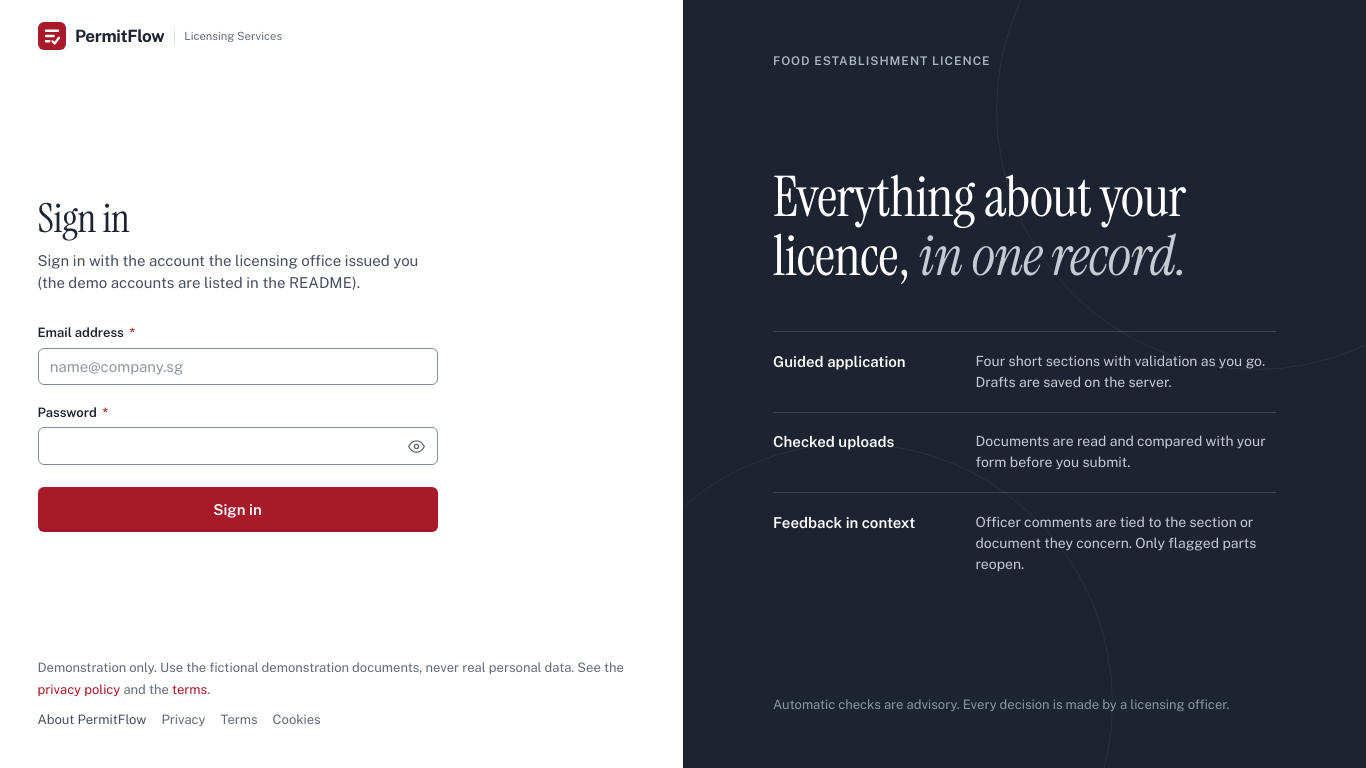
Test: LoginPage › lets the person cancel a take-over and keeps the form
Type "o@x.sg" into the field labelled "Email address *". click: (238, 366)
box: [38,348,438,385]
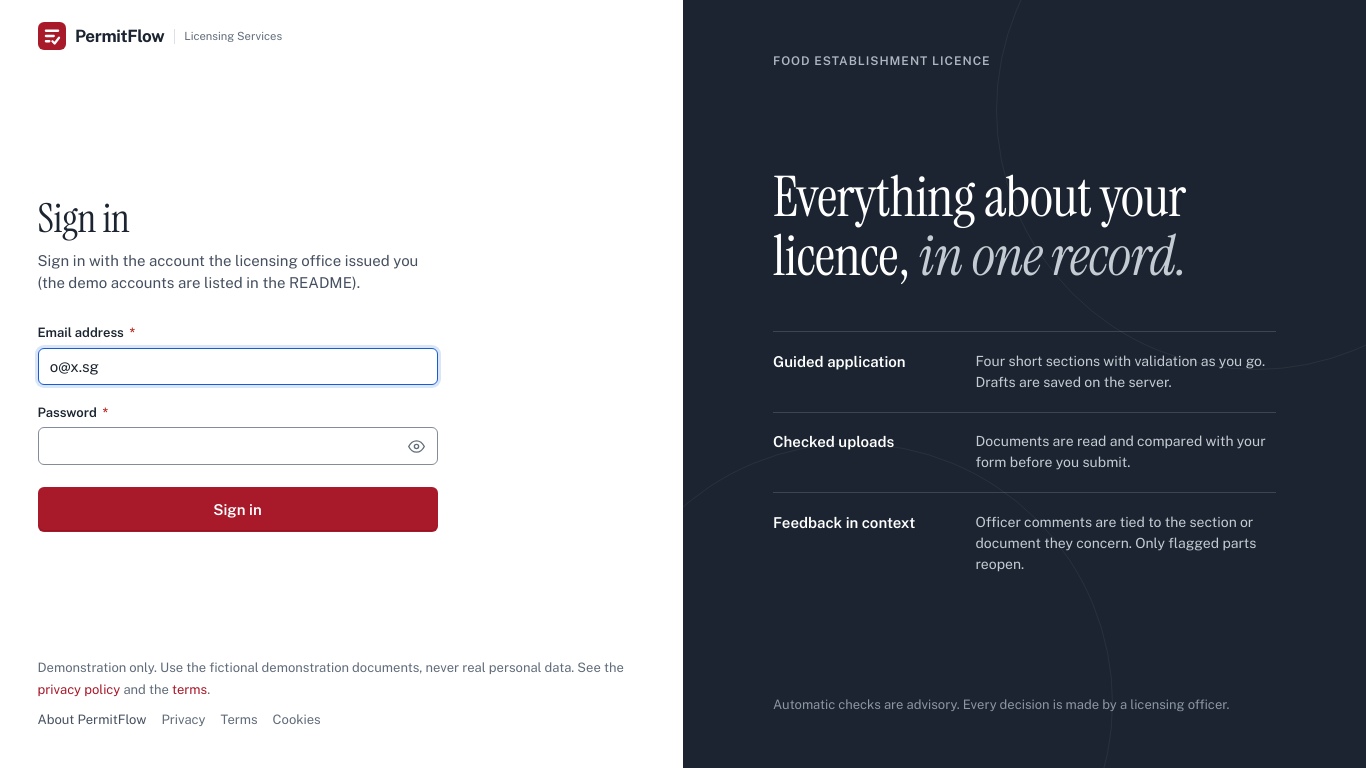
Type "pw" into the password field labelled "Password *". click: (238, 446)
box: [38,427,438,465]
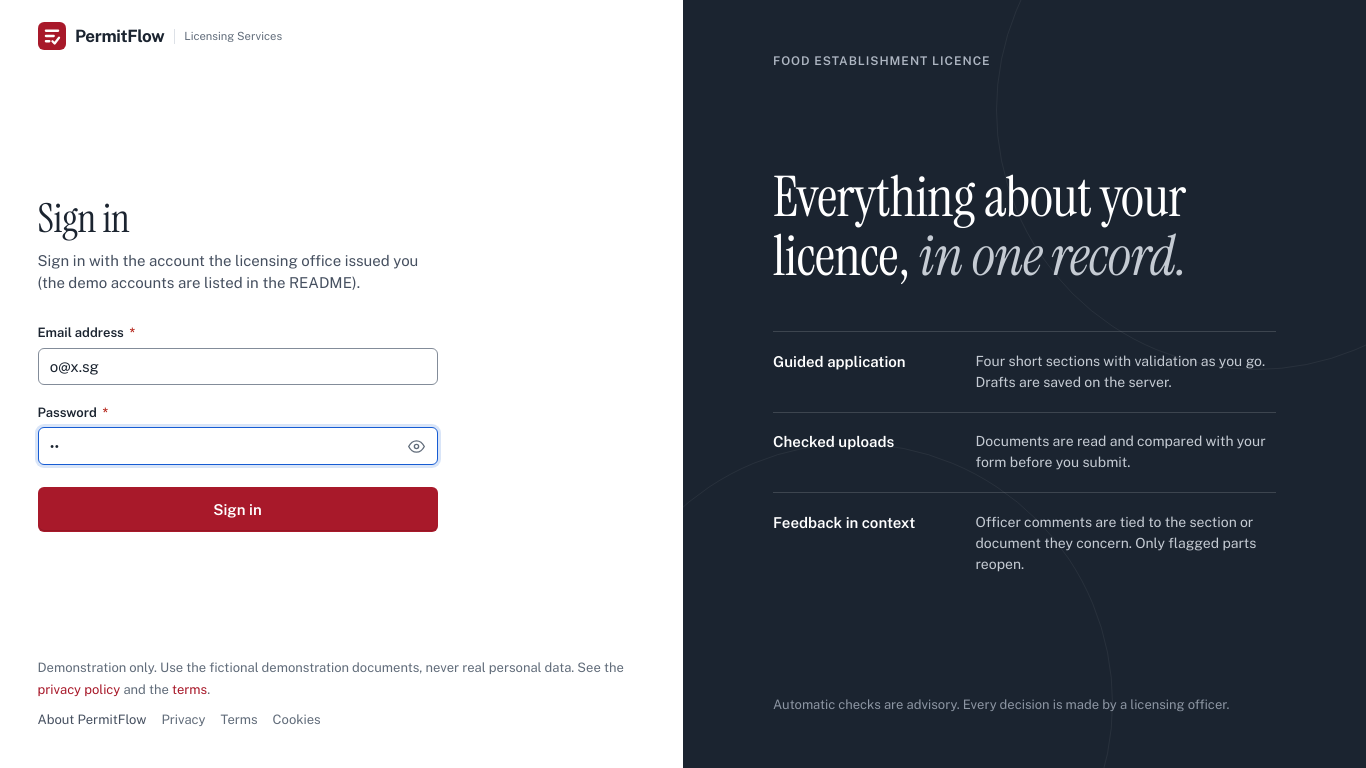
Click the button "Sign in". click: (238, 510)
box: [38,487,438,532]
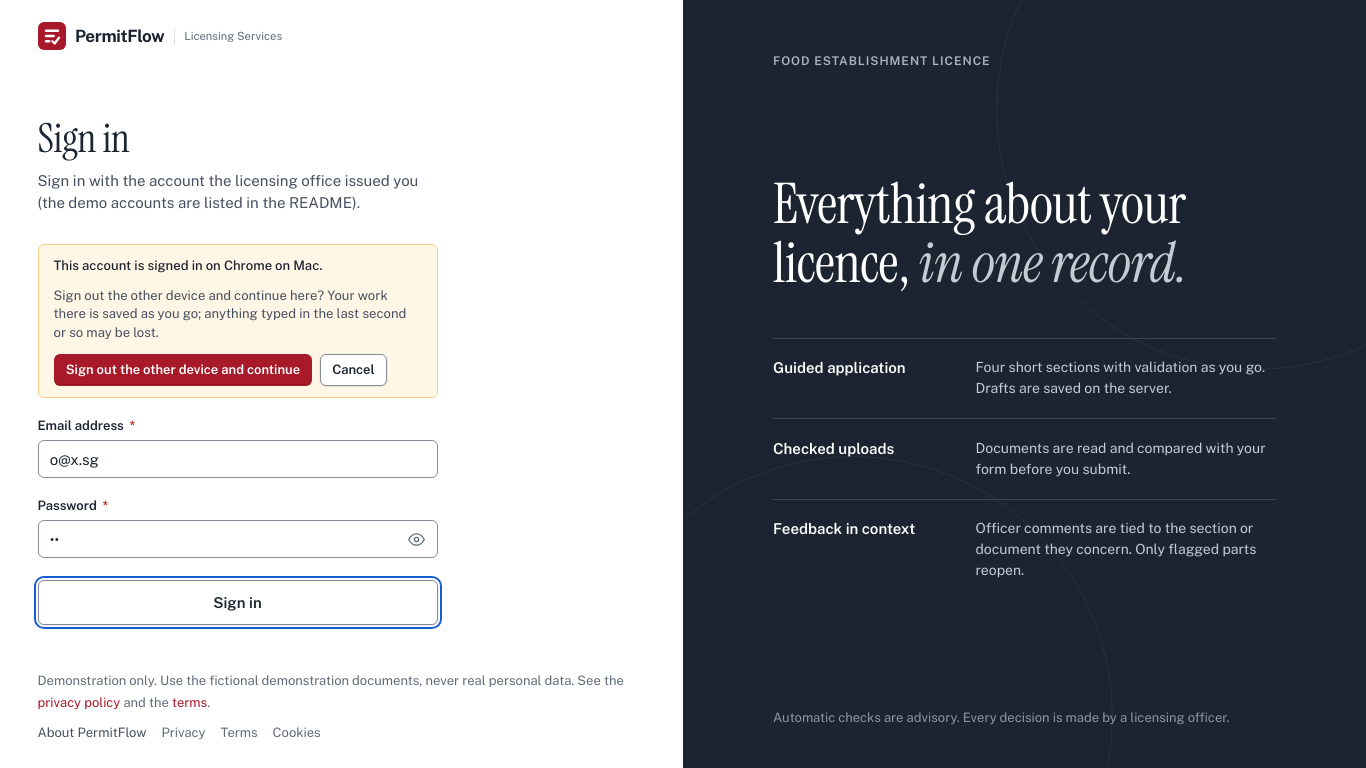
Expected: the text "This account is signed in on Chrome on Mac." is shown, [54,258,322,272]
Click the button "Cancel". click: (353, 370)
box: [320,354,387,386]
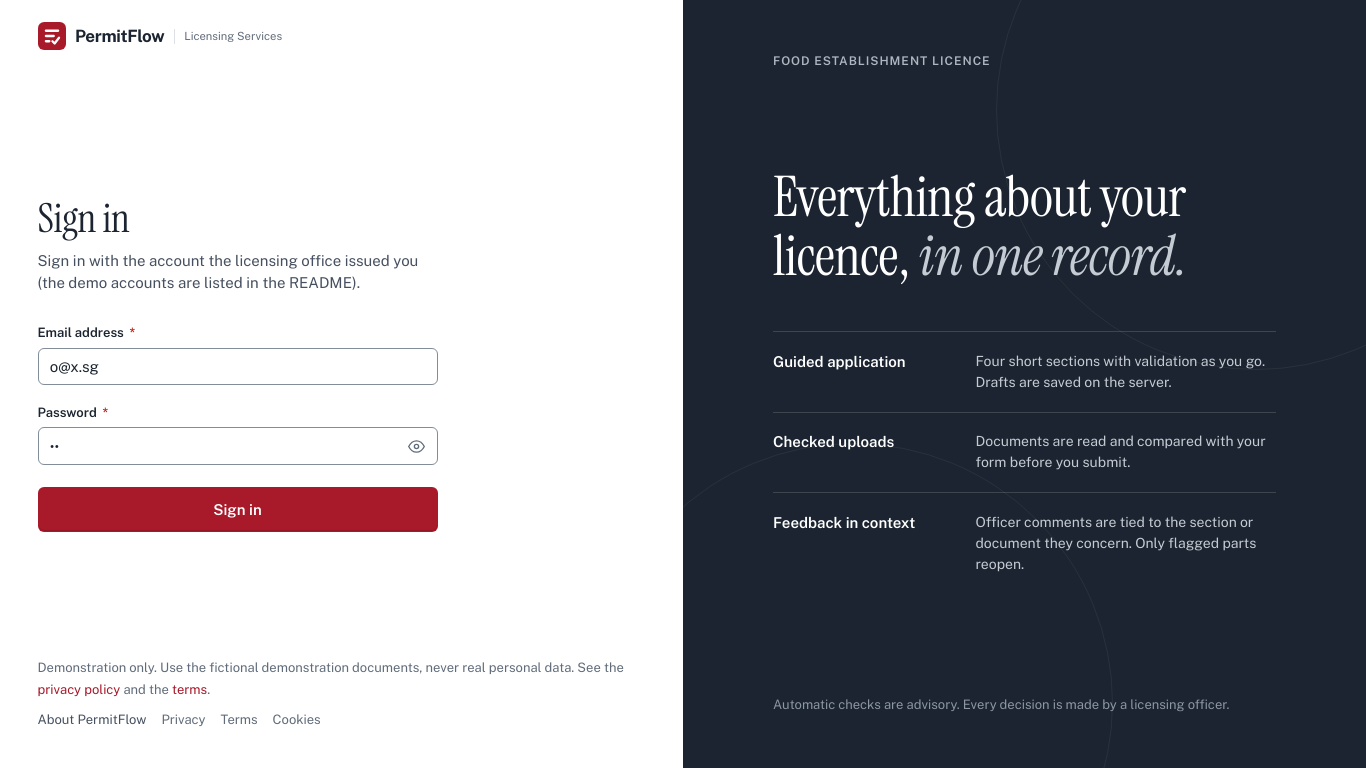
Expected: the text "signed in on Chrome on Mac" is gone
